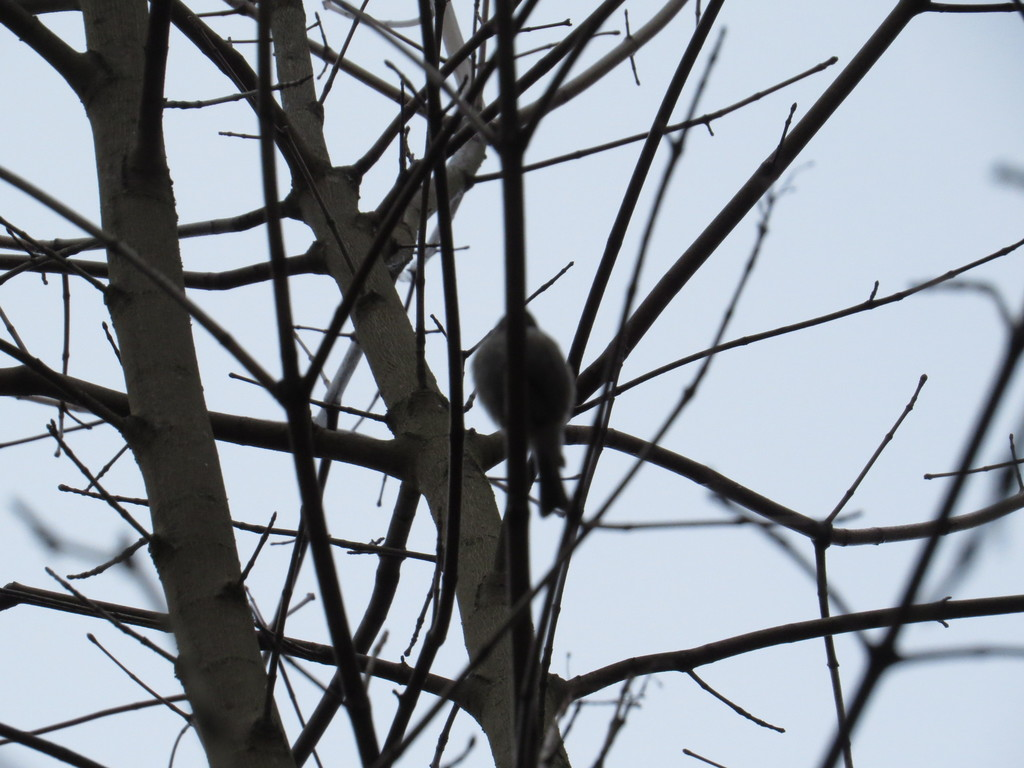Periparus_ater: (469, 308, 575, 519)
